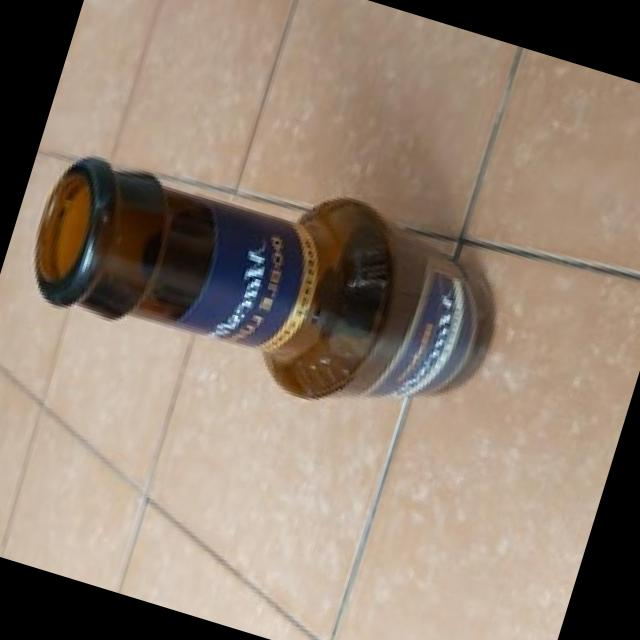BotolKaca: (10, 113, 506, 445)
